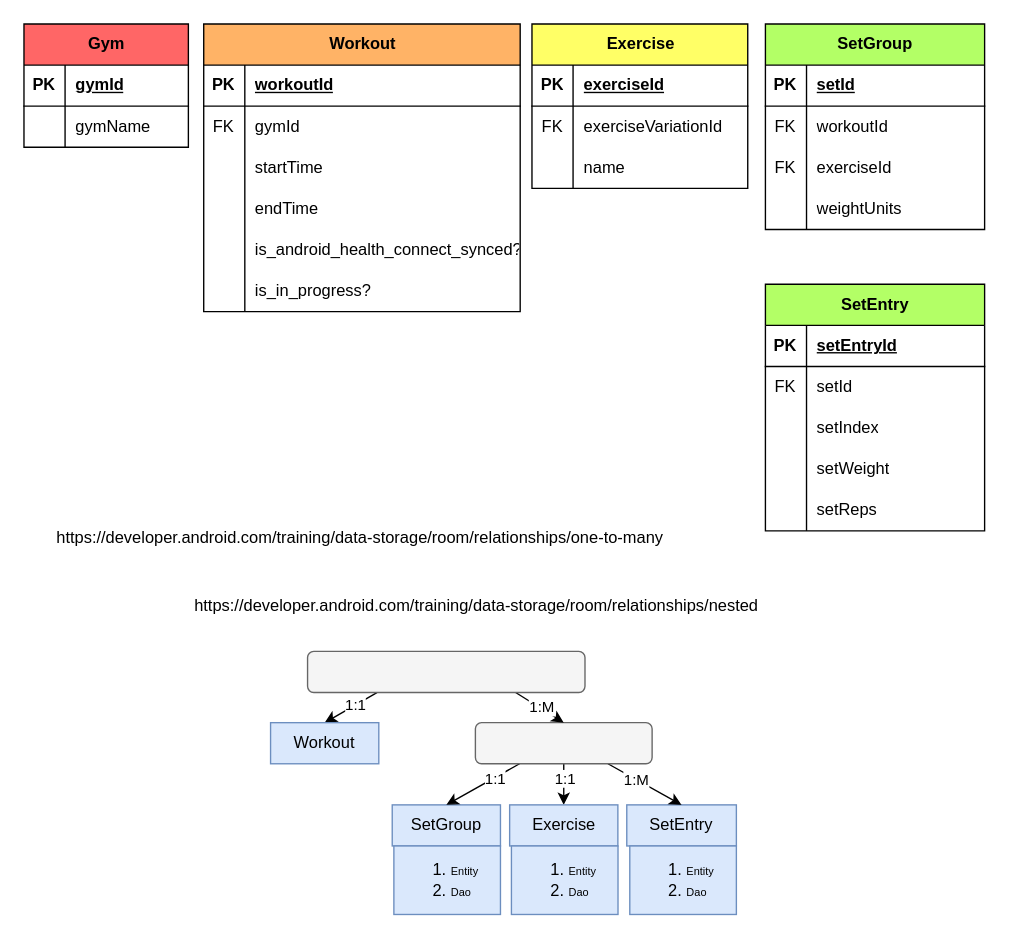
Image size: 1010x940. Some labels were removed from this diagram. Each missing label, with the centre of its shape:
SetGroupWithEntries: the point at 563,742
WorkoutWithSetGroupsAndEntries: the point at 445,671
